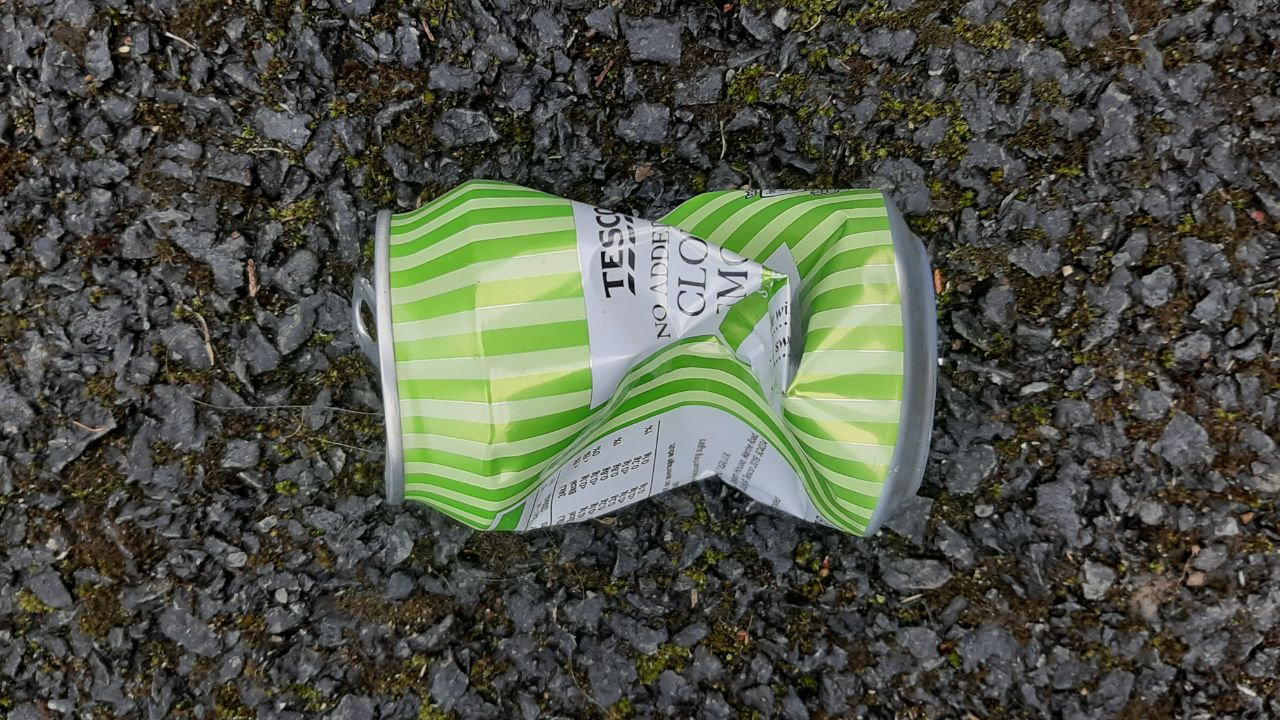Can: (347, 177, 938, 541)
